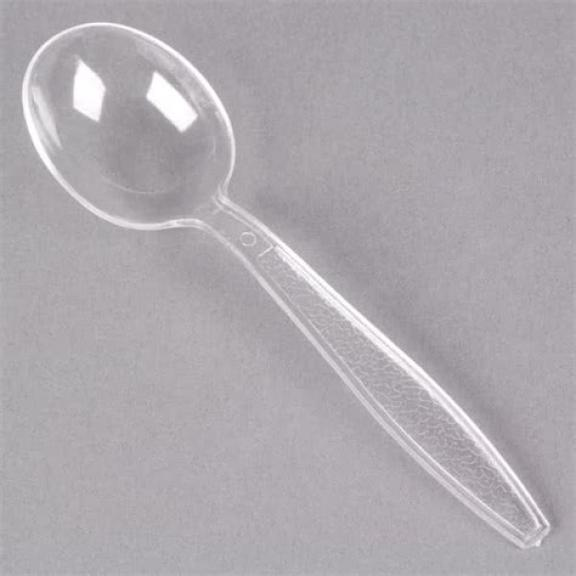Plastik: (24, 24, 549, 548)
